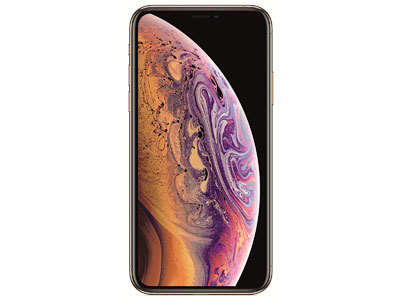Handphone: (128, 2, 275, 297)
